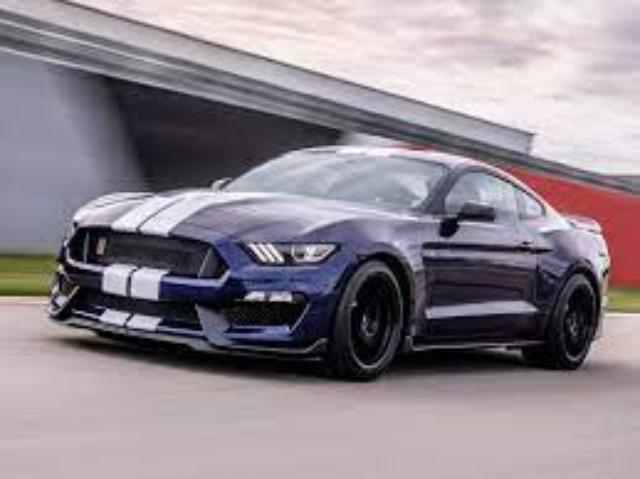ford-mustang: (44, 146, 610, 381)
